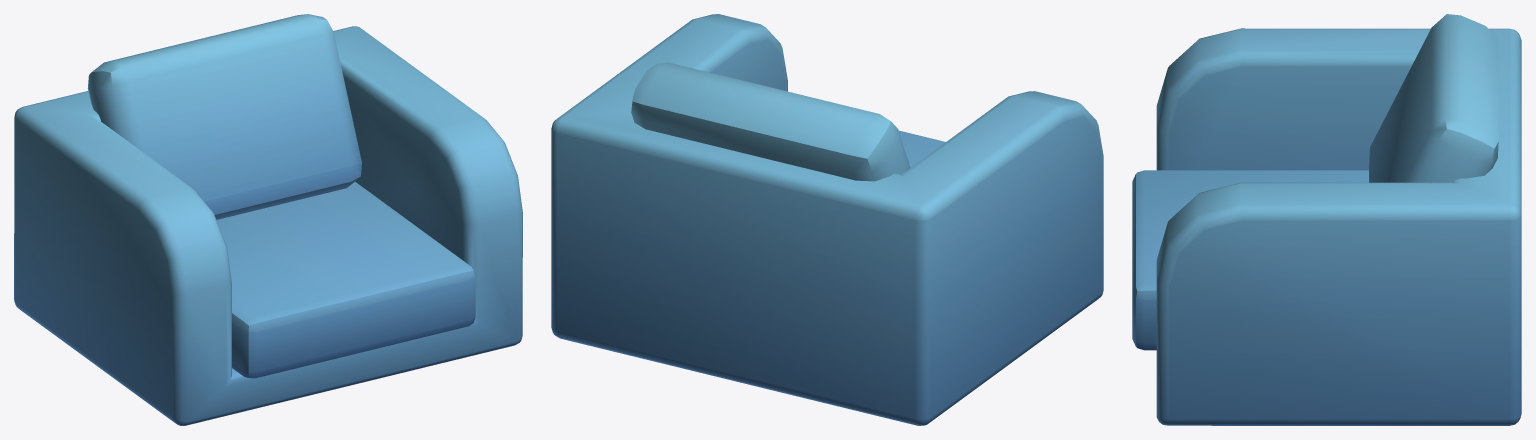
File: fur-armchair.glb
The picture shows the model from 3 angles, left to right: view 1: azimuth 30°, elevation 25°; view 2: azimuth 150°, elevation 25°; view 3: azimuth 270°, elevation 25°; orthographic projection. The views are drawn at different scales.
Parts seen in each view (by area): view 1: armchair; view 2: armchair; view 3: armchair.
Boxes of the visible parts, x1,y1,x2,y2 form: armchair: (14, 14, 522, 425); armchair: (551, 14, 1103, 425); armchair: (1132, 14, 1521, 425).
Bounding box in the file's own units: 1.8 × 1.22 × 1.6.
1 material, 1 textured.
